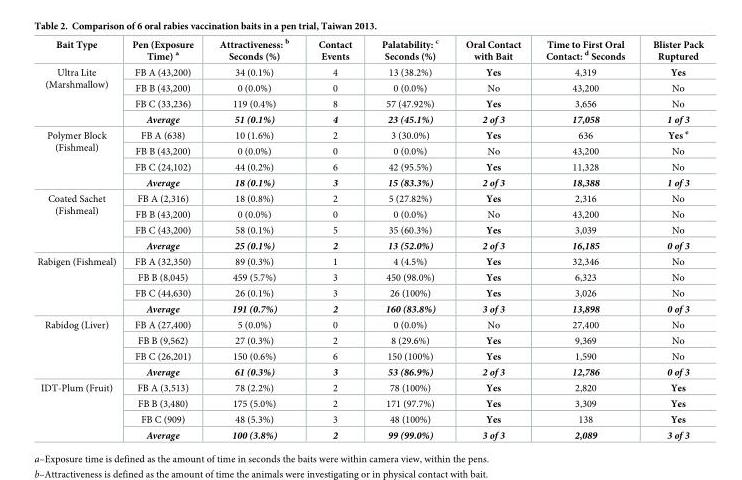table: (36, 37, 702, 441)
table column: (532, 37, 638, 441), (205, 37, 302, 441), (36, 37, 123, 441), (366, 37, 451, 441), (123, 37, 205, 441), (451, 37, 532, 441), (302, 37, 366, 441), (638, 37, 702, 441)
table column header: (36, 37, 702, 64)
table row: (36, 37, 702, 64), (36, 173, 702, 191), (36, 236, 702, 254), (36, 126, 702, 143), (36, 300, 702, 317), (36, 363, 702, 380), (36, 64, 702, 80), (36, 110, 702, 126), (36, 206, 702, 222), (36, 269, 702, 285), (36, 332, 702, 348), (36, 395, 702, 411), (36, 80, 702, 95), (36, 95, 702, 110), (36, 143, 702, 158), (36, 158, 702, 173), (36, 191, 702, 206), (36, 254, 702, 269), (36, 285, 702, 300), (36, 317, 702, 332), (36, 348, 702, 363), (36, 380, 702, 395), (36, 411, 702, 426), (36, 426, 702, 441), (36, 222, 702, 236)
table spanning cell: (36, 126, 123, 191), (36, 191, 123, 254), (36, 254, 123, 317), (36, 317, 123, 380), (36, 64, 123, 126), (36, 380, 123, 441)
